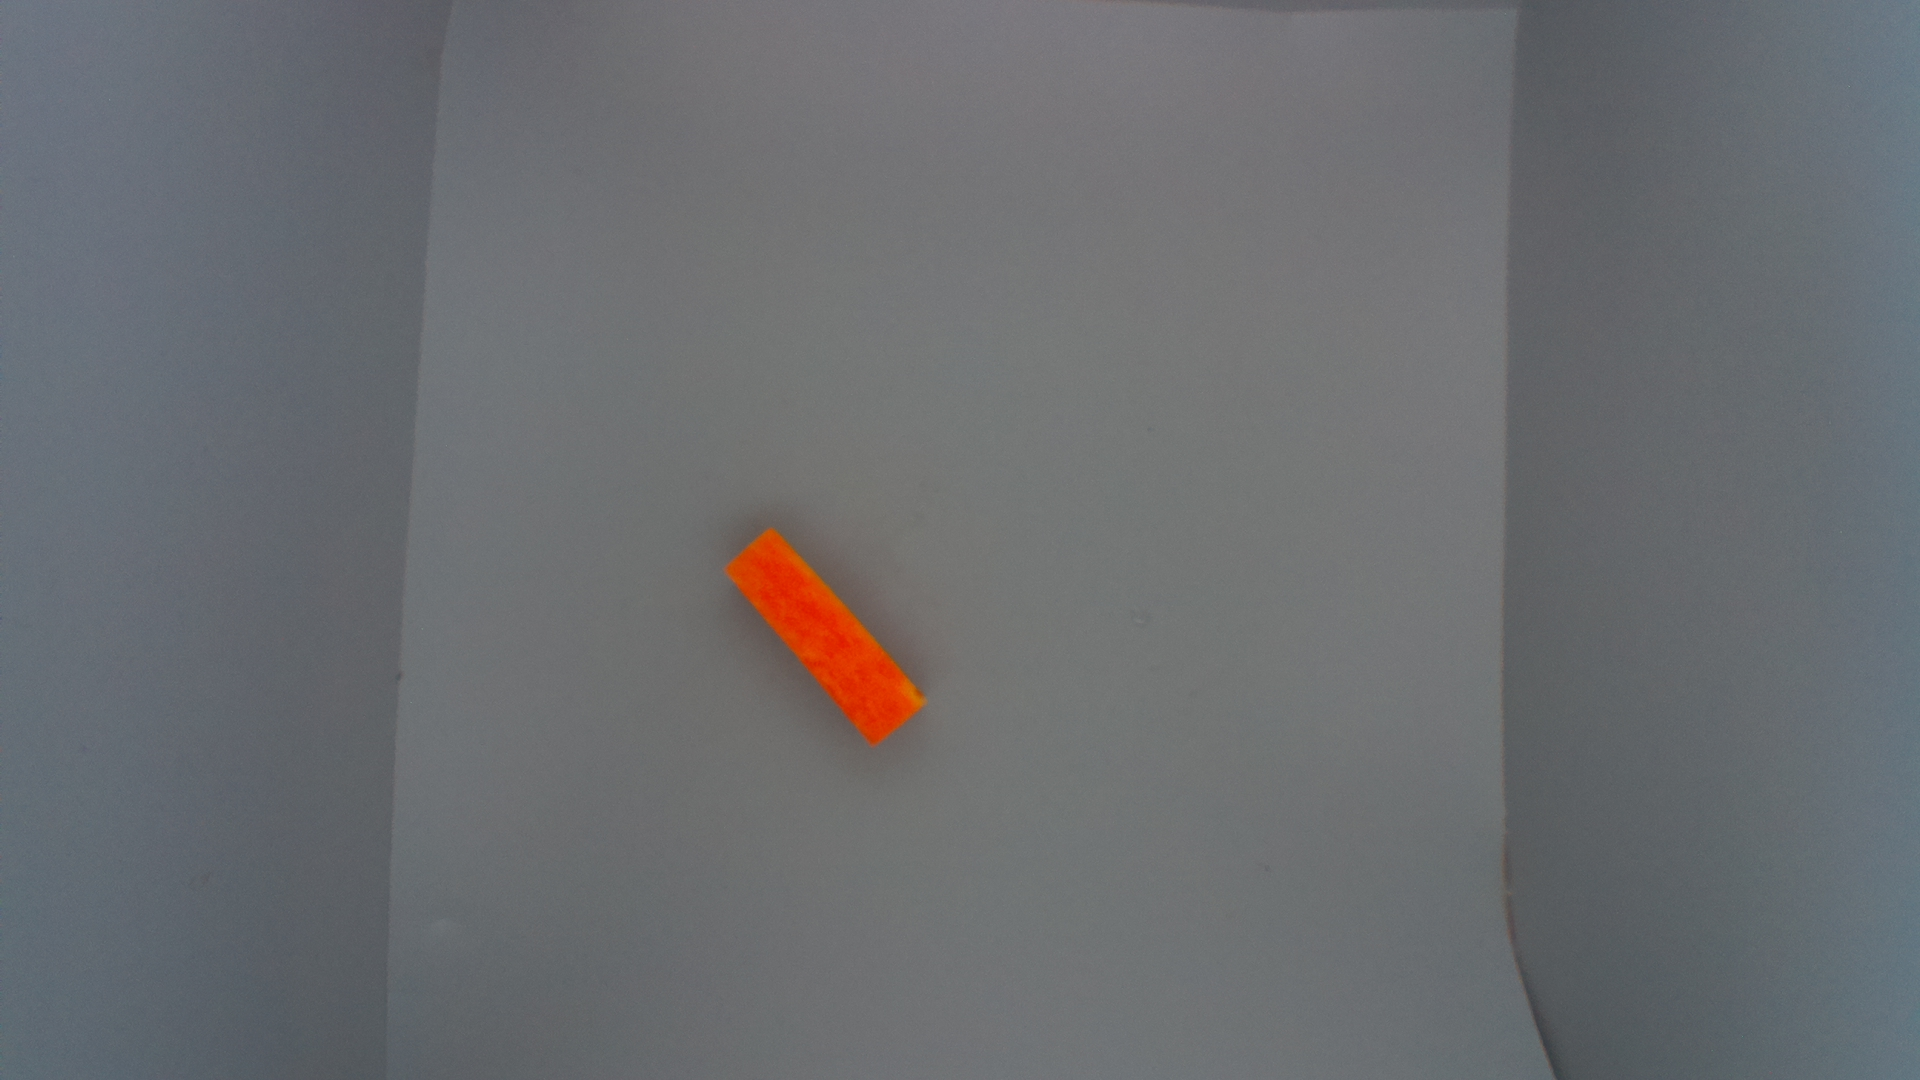carrot: (723, 527, 930, 756)
